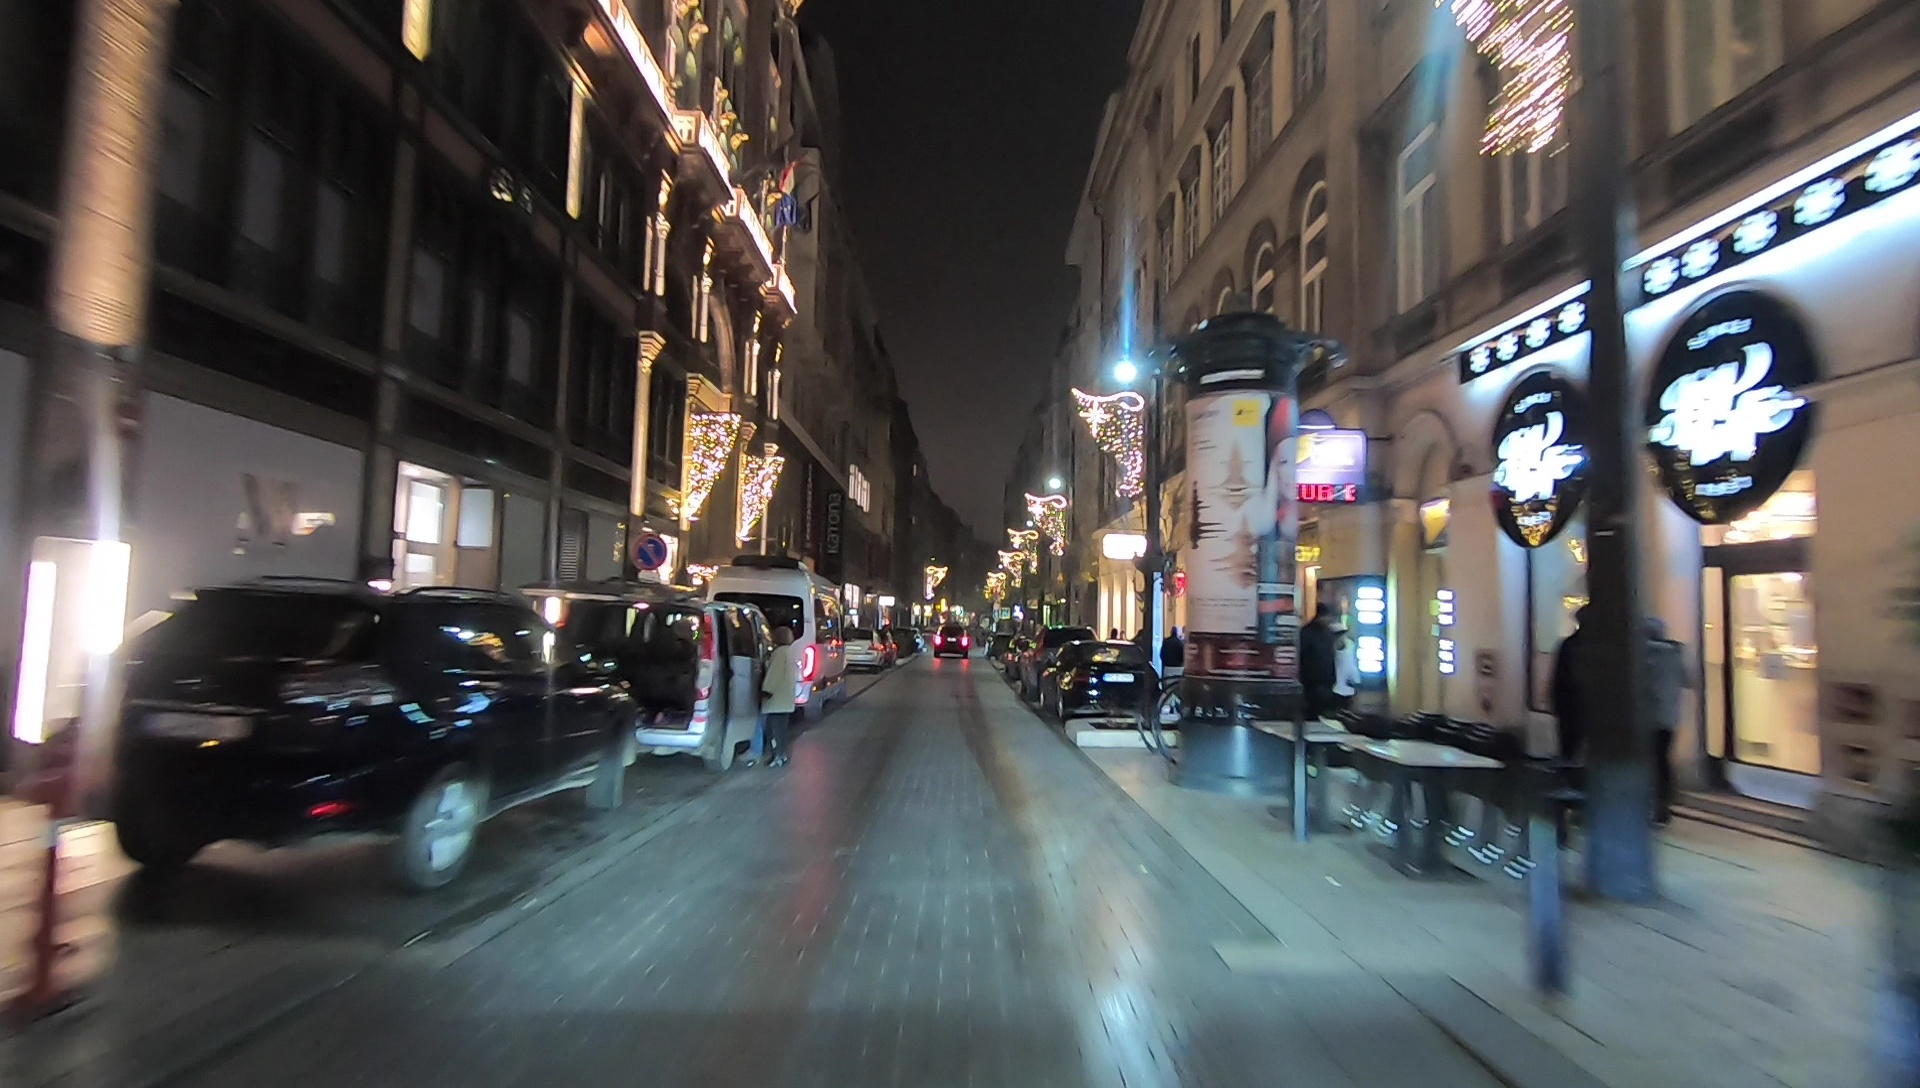person: (1645, 616, 1697, 827), (1554, 605, 1592, 793), (748, 629, 793, 766), (1299, 605, 1338, 734), (1163, 628, 1187, 709)
